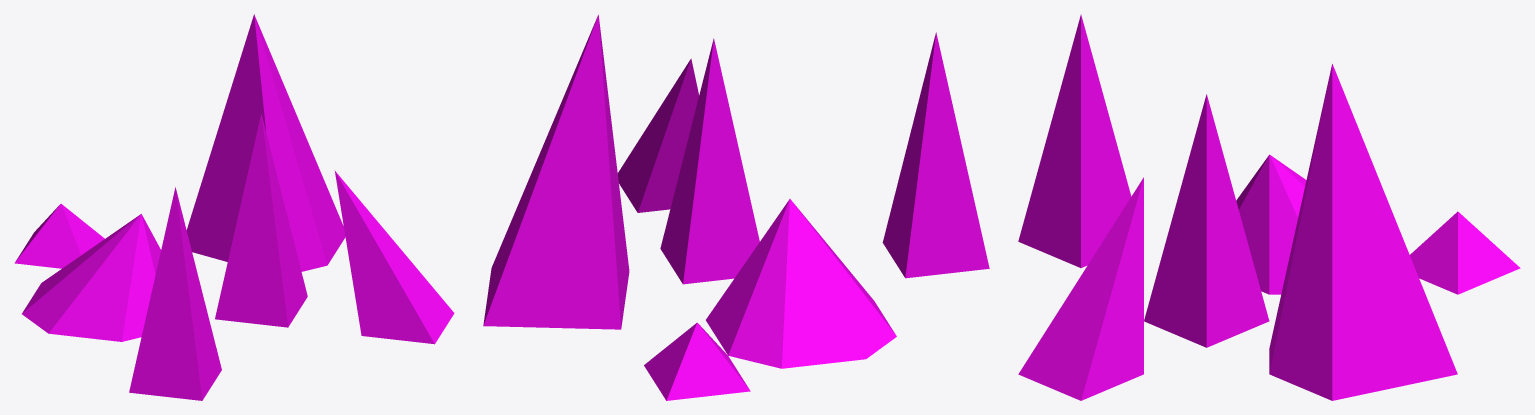
Rendered from stalagmites.obj.
The picture shows the model from 3 angles, left to right: view 1: azimuth 30°, elevation 25°; view 2: azimuth 150°, elevation 25°; view 3: azimuth 270°, elevation 25°; orthographic projection. The views are drawn at different scales.
Visible parts, largest first — view 1: stalagmites_back; view 2: stalagmites_back; view 3: stalagmites_back.
Boxes of the visible parts, box(x1,y1,x2,y2) form: stalagmites_back: box(15, 14, 454, 400); stalagmites_back: box(483, 14, 989, 400); stalagmites_back: box(1018, 14, 1520, 400).
Size of the model in its own units: 1.12 by 0.8 by 1.28.
